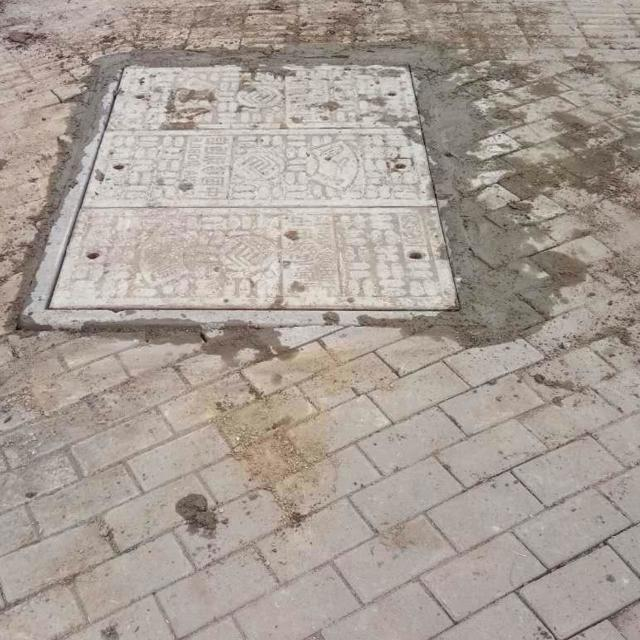good: (26, 54, 467, 325)
